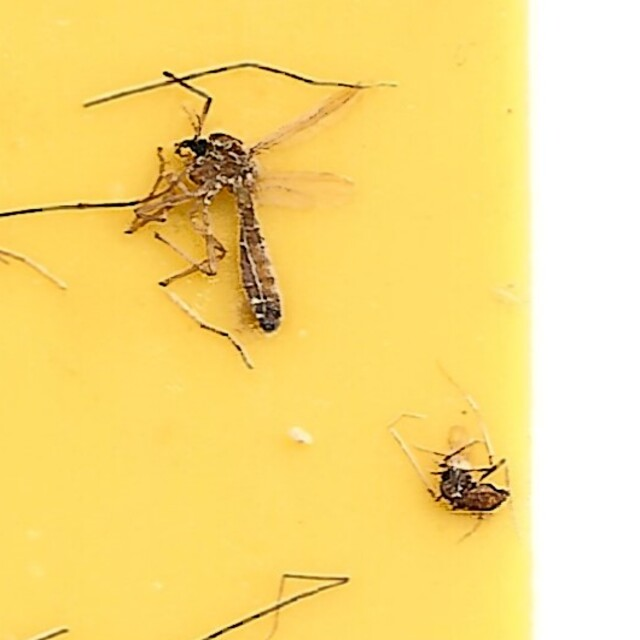Nematocera: (121, 117, 297, 346), (420, 440, 519, 523)
